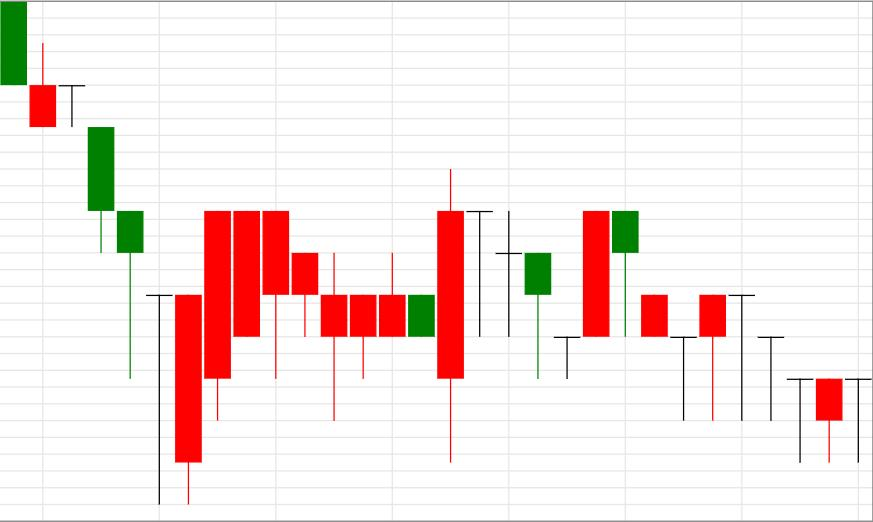hammer_rise: (2, 0, 144, 378)
